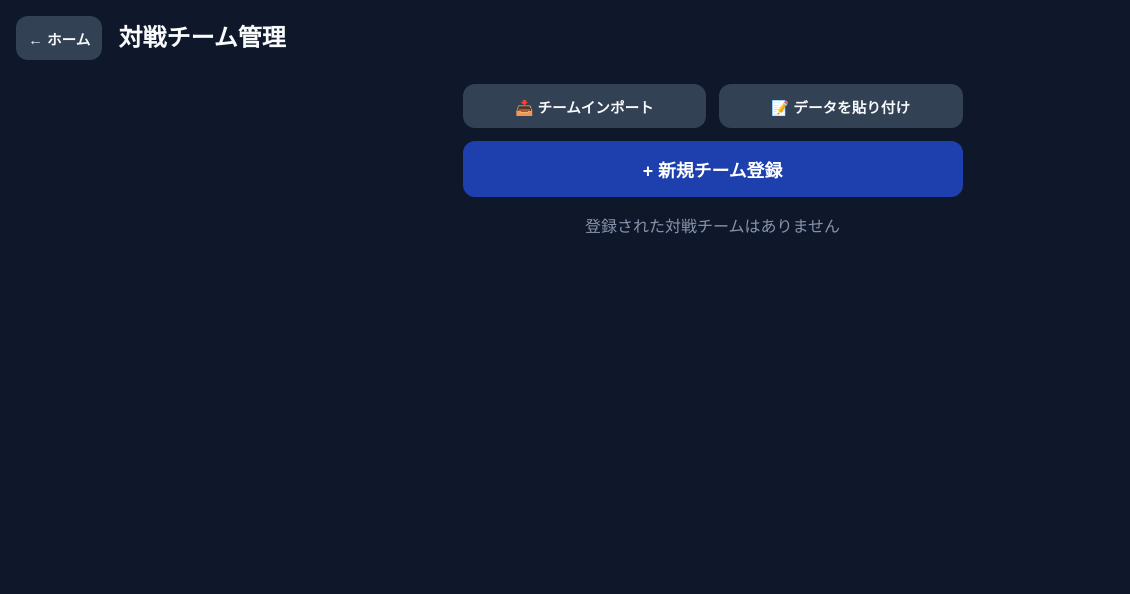
戻る操作とサブビュー › 対戦チーム管理: 登録フォームを開くと戻るを受け取る
This screenshot has width=1130, height=594.
Click the button "+ 新規チーム登録": {"x": 712, "y": 169} [462, 141, 962, 197]
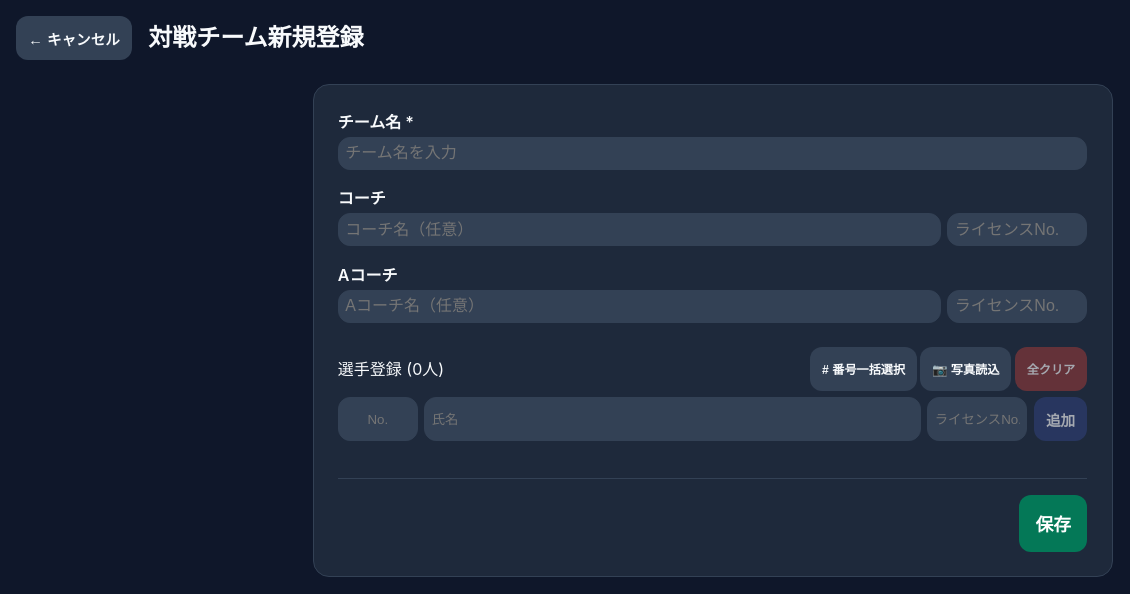
Now the heading "対戦チーム新規登録" is shown, box [148, 20, 364, 56]
